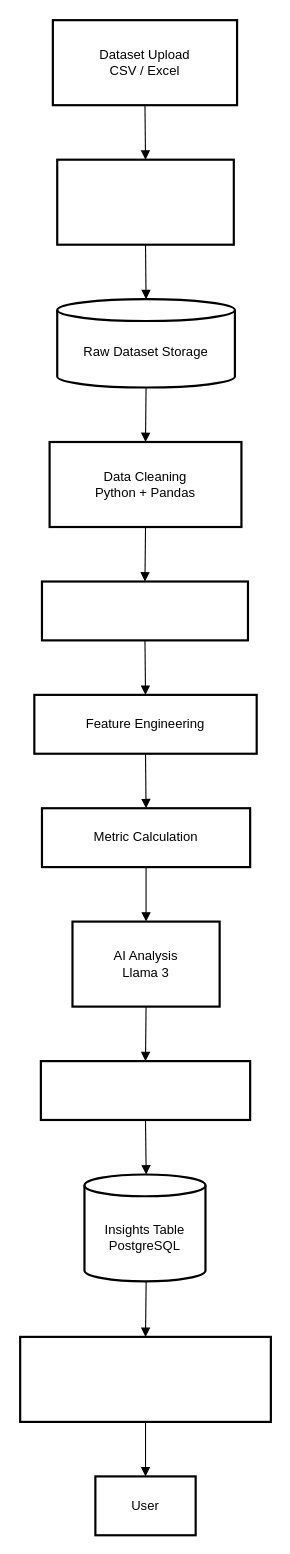
Some shapes in this 290 by 1554 pixel diagram are drawn without their labels. The centre of each missing label's shape, as x and y in pixels:
"Dashboard Visualization React" goes at (145,1378).
"Data Ingestion ASP.NET API" goes at (145,201).
"Insight Generation" goes at (145,1090).
"Schema Detection" goes at (144,610).
